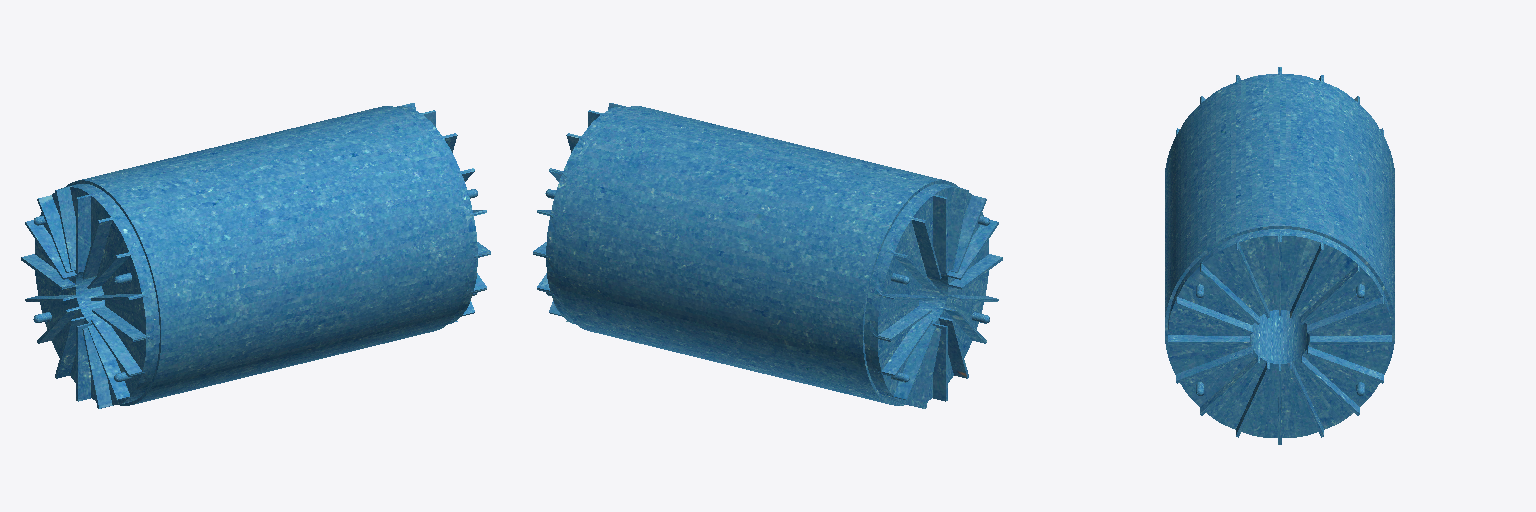
3 views of the same model, side by side, from view 1: azimuth 30°, elevation 25°; view 2: azimuth 150°, elevation 25°; view 3: azimuth 270°, elevation 25° (orthographic).
Parts seen in each view (by area): view 1: Cylinder.013; view 2: Cylinder.013; view 3: Cylinder.013.
Boxes of the visible parts, <box> form: Cylinder.013: <box>21,103,490,408</box>; Cylinder.013: <box>533,103,1002,408</box>; Cylinder.013: <box>1165,67,1394,444</box>.
Size of the model in its own units: 0.0949 by 0.0523 by 0.0523.
1 materials, 1 textured.